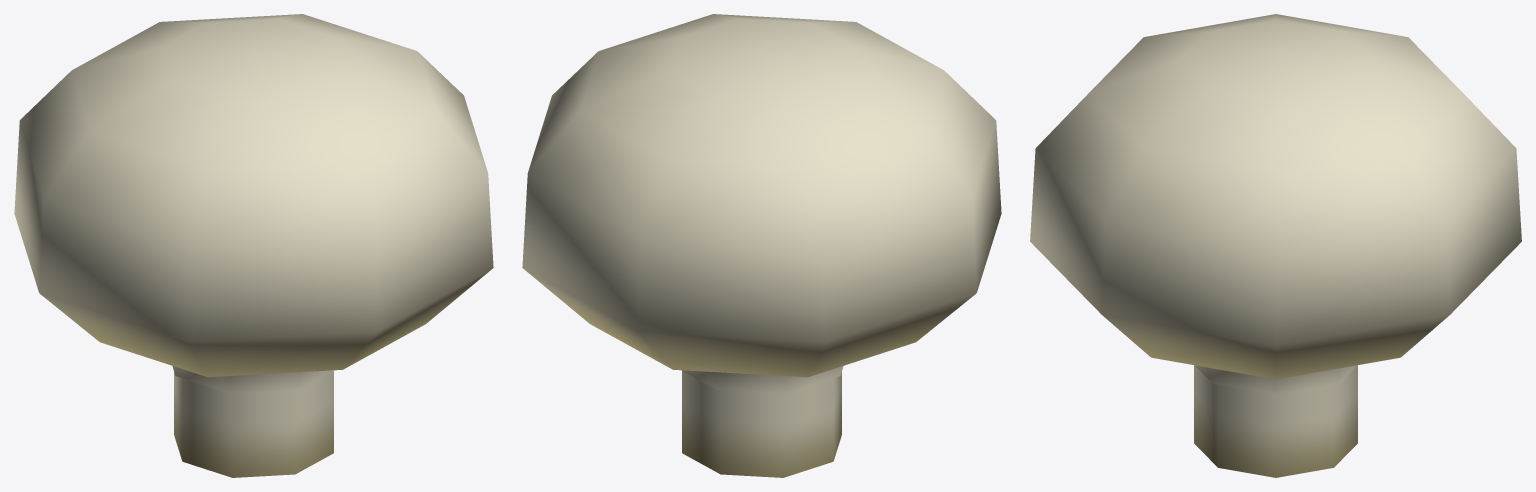
File: Mushroom.FBX
The picture shows the model from 3 angles, left to right: view 1: azimuth 30°, elevation 25°; view 2: azimuth 150°, elevation 25°; view 3: azimuth 270°, elevation 25°; orthographic projection.
Visible parts, largest first — view 1: Mushroom; view 2: Mushroom; view 3: Mushroom.
Part boxes in pixels (x1,y1,x2,y2): Mushroom: [14, 14, 493, 477]; Mushroom: [522, 14, 1001, 477]; Mushroom: [1030, 14, 1521, 477].
Bounding box in the file's own units: 7.21 × 6.3 × 7.21.
Materials: 1 (1 with a texture image).
